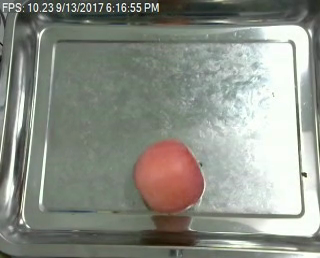Apple: (130, 138, 205, 219)
